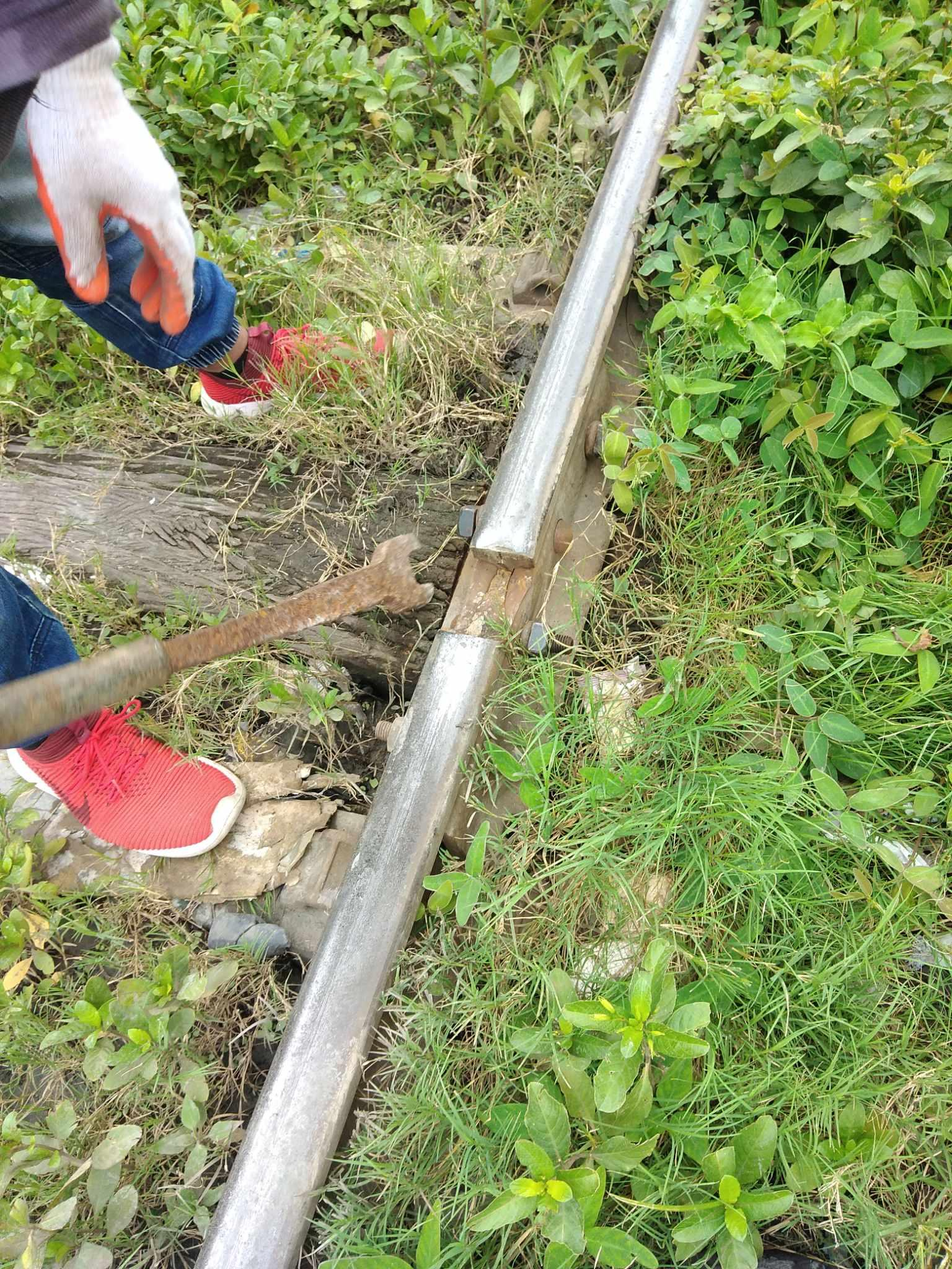railway-gap: (422, 511, 563, 678)
